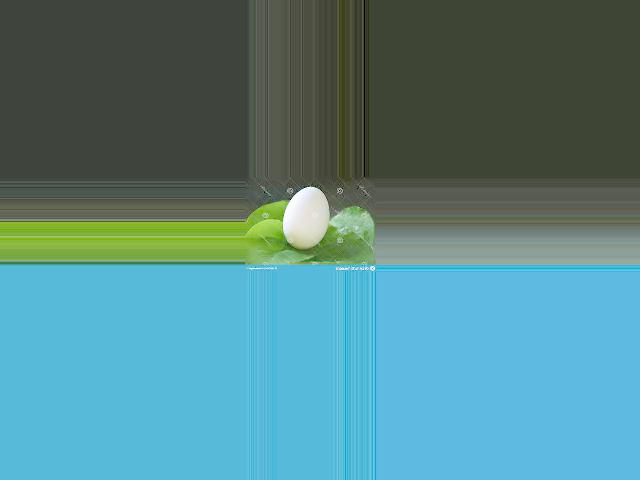egg: (282, 187, 329, 249)
